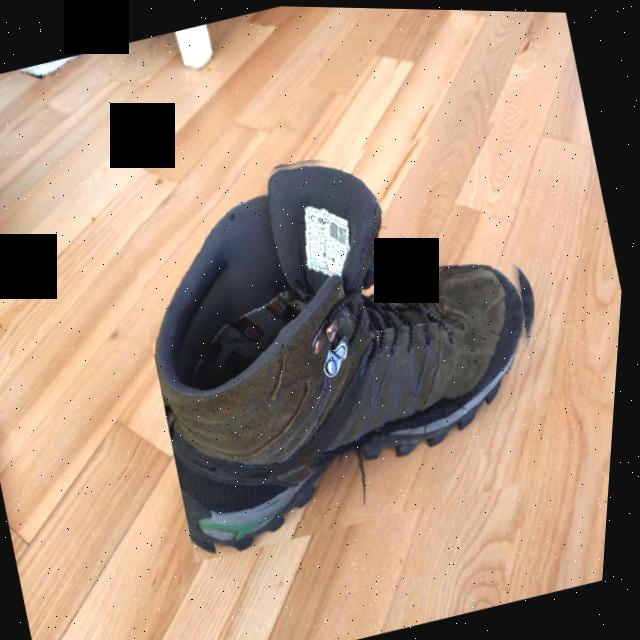shoe: (106, 101, 594, 567)
